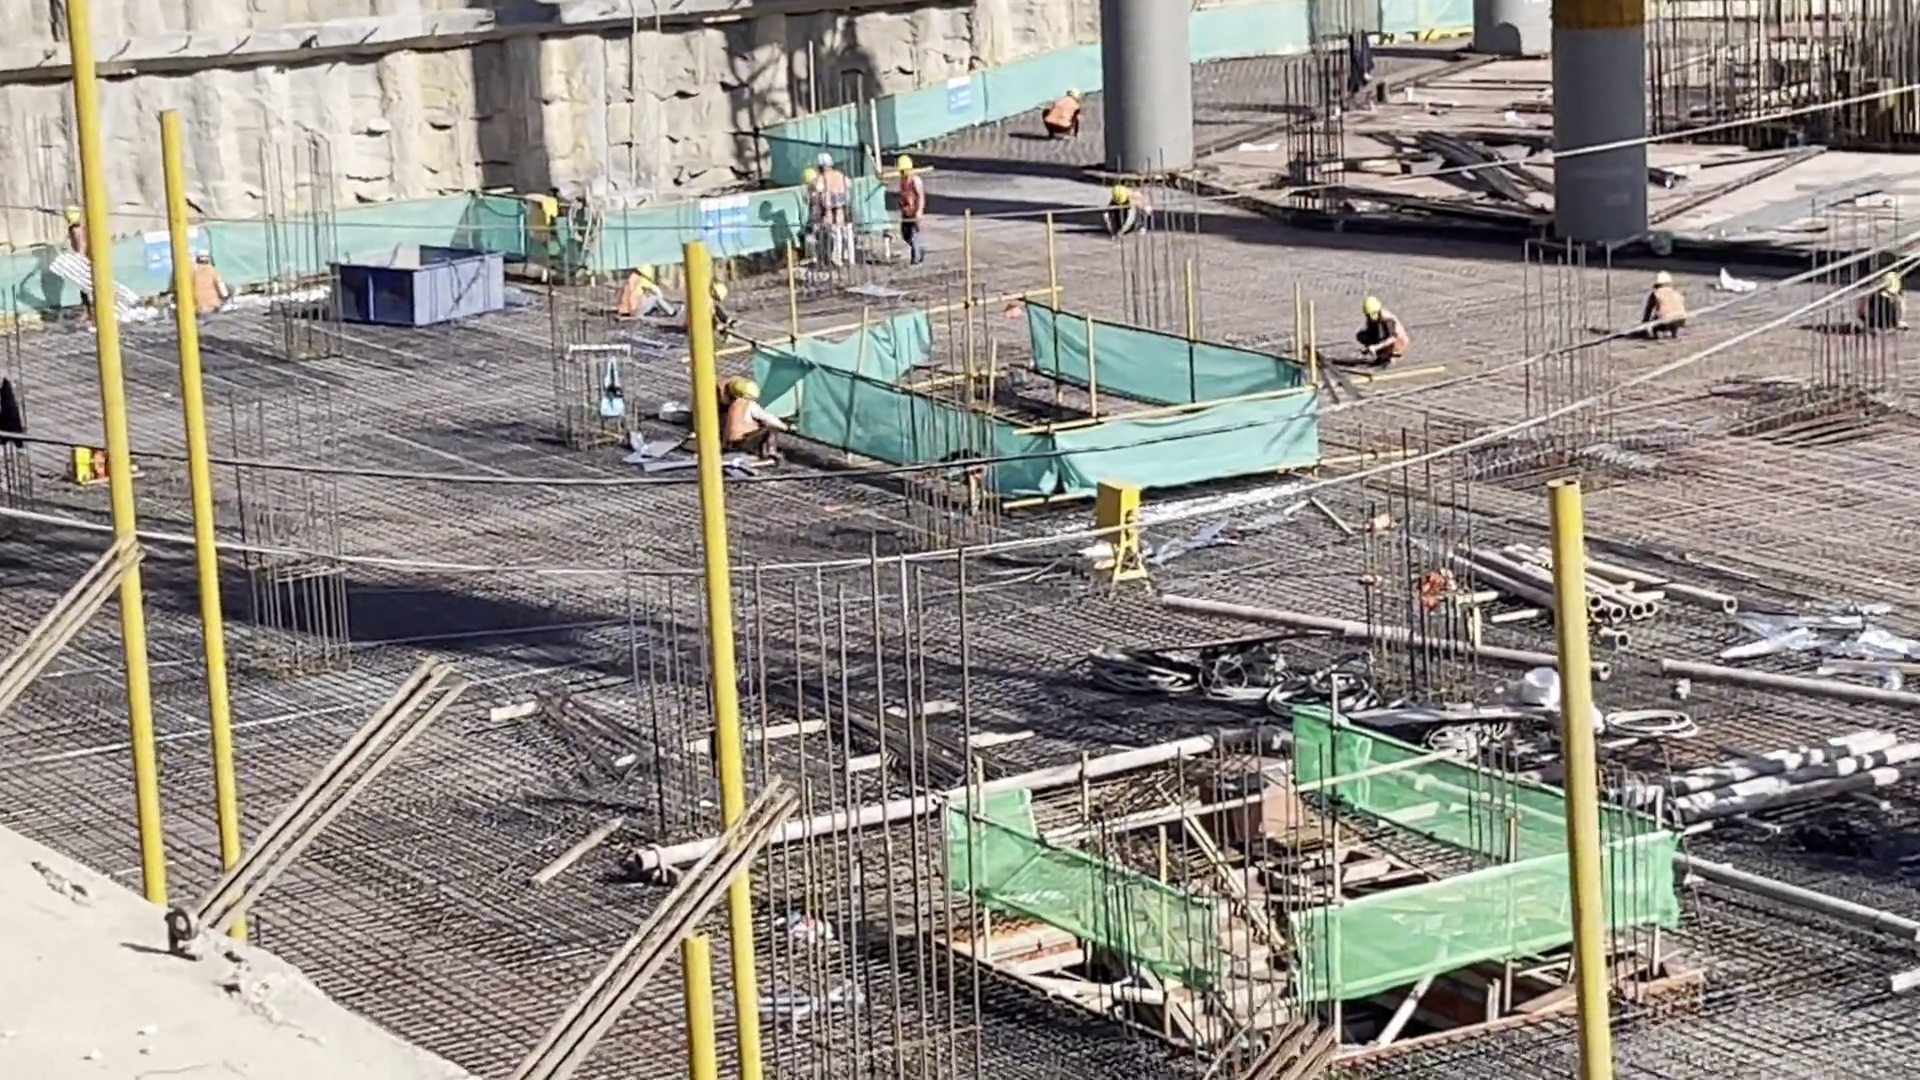ebox: (1100, 481, 1141, 569), (527, 195, 558, 241)
helmet: (1362, 295, 1383, 315), (741, 382, 759, 398), (713, 282, 728, 302), (896, 155, 912, 171), (1654, 269, 1671, 285), (1112, 184, 1125, 205), (637, 265, 654, 279), (817, 151, 833, 165), (804, 168, 818, 181)
hopper: (327, 245, 502, 327)
person: (804, 145, 855, 253), (727, 379, 793, 458), (1354, 296, 1413, 366), (186, 249, 231, 320), (1642, 276, 1689, 339), (1097, 185, 1154, 237), (896, 155, 923, 262), (1040, 87, 1088, 143), (619, 268, 662, 322)
slogan: (697, 192, 750, 241), (146, 231, 173, 273), (946, 74, 971, 115)
vest: (1650, 289, 1682, 330), (1043, 99, 1081, 133), (727, 396, 754, 437), (624, 270, 647, 316), (820, 173, 850, 204), (896, 179, 917, 220)
